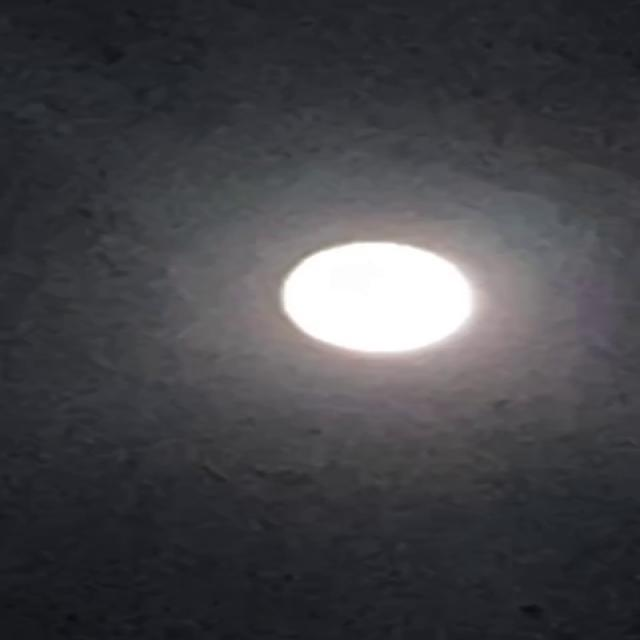moon: (278, 230, 505, 351)
